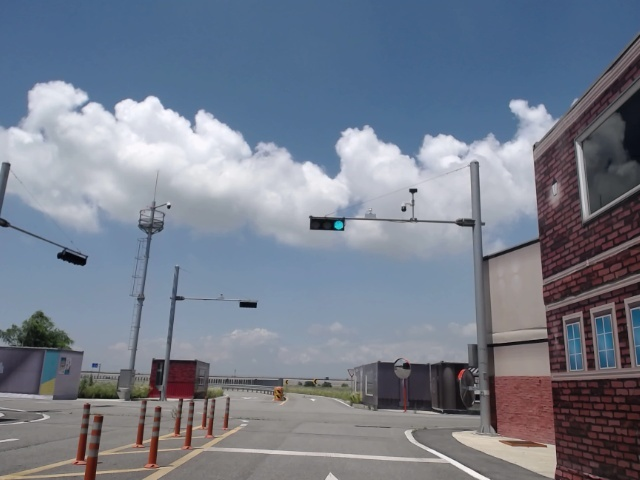green_3: (311, 217, 343, 229)
